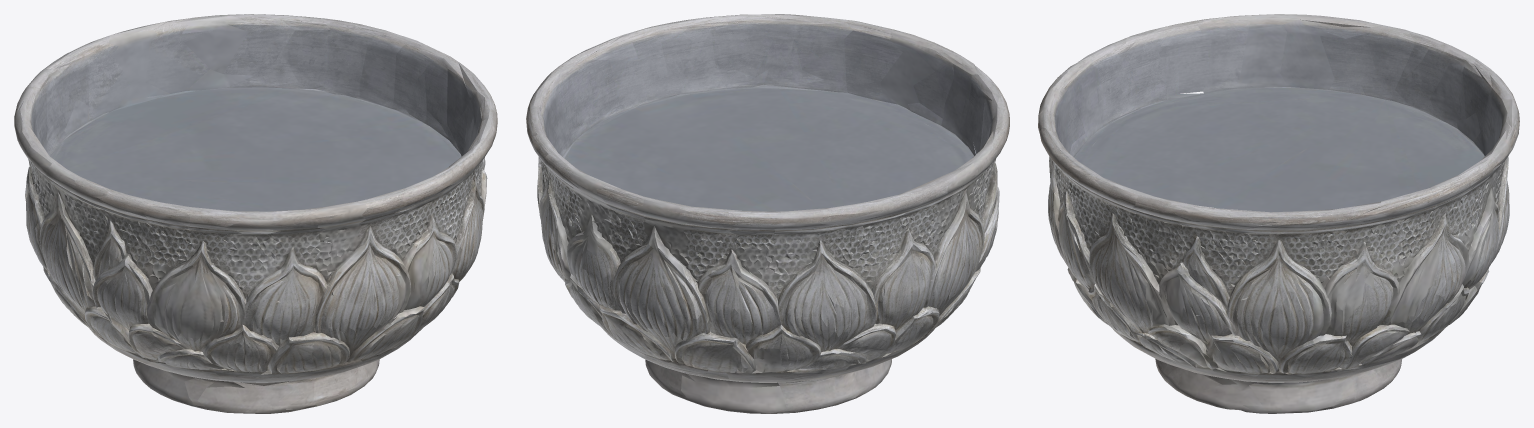
The model's file is w4waterbowl.glb.
3 views of the same model, side by side, from view 1: azimuth 30°, elevation 25°; view 2: azimuth 150°, elevation 25°; view 3: azimuth 270°, elevation 25° (orthographic).
Parts seen in each view (by area): view 1: output_unwrapped; view 2: output_unwrapped; view 3: output_unwrapped.
Part boxes in pixels (left/top/right/bottom): output_unwrapped: left=14, top=14, right=497, bottom=413; output_unwrapped: left=526, top=14, right=1009, bottom=413; output_unwrapped: left=1038, top=14, right=1519, bottom=413.
Bounding box in the file's own units: 0.15 × 0.0854 × 0.1495.
Materials: 1 (1 with a texture image).
